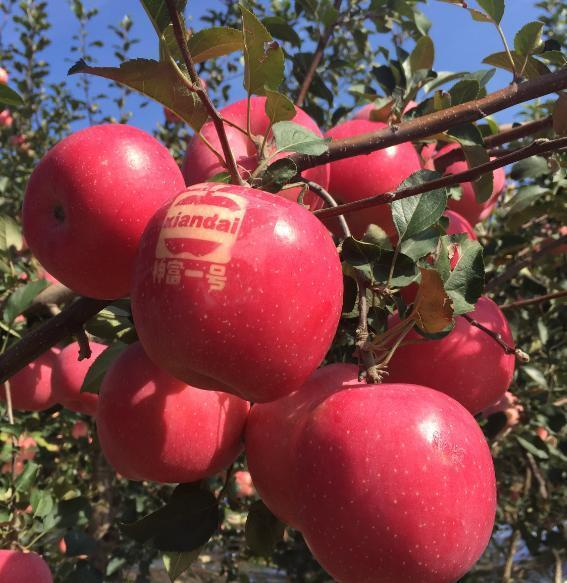apple: (127, 180, 345, 400), (294, 383, 495, 582), (17, 119, 186, 301), (95, 335, 252, 483), (182, 96, 330, 218), (386, 294, 517, 417), (51, 339, 114, 413)
